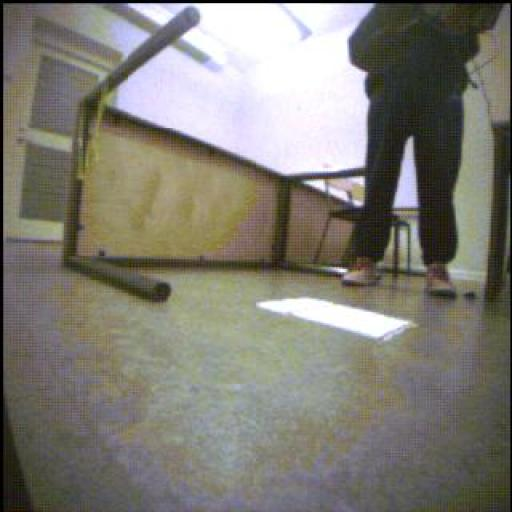Pad: (259, 299, 417, 344)
